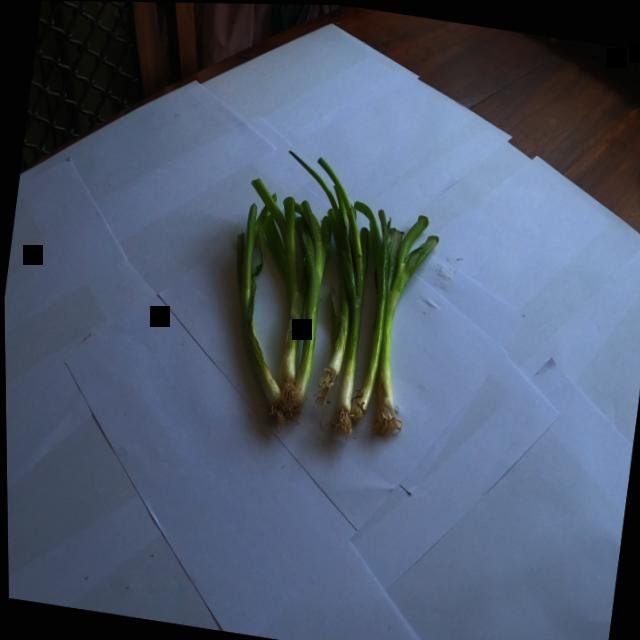Springonion: (171, 127, 489, 480)
